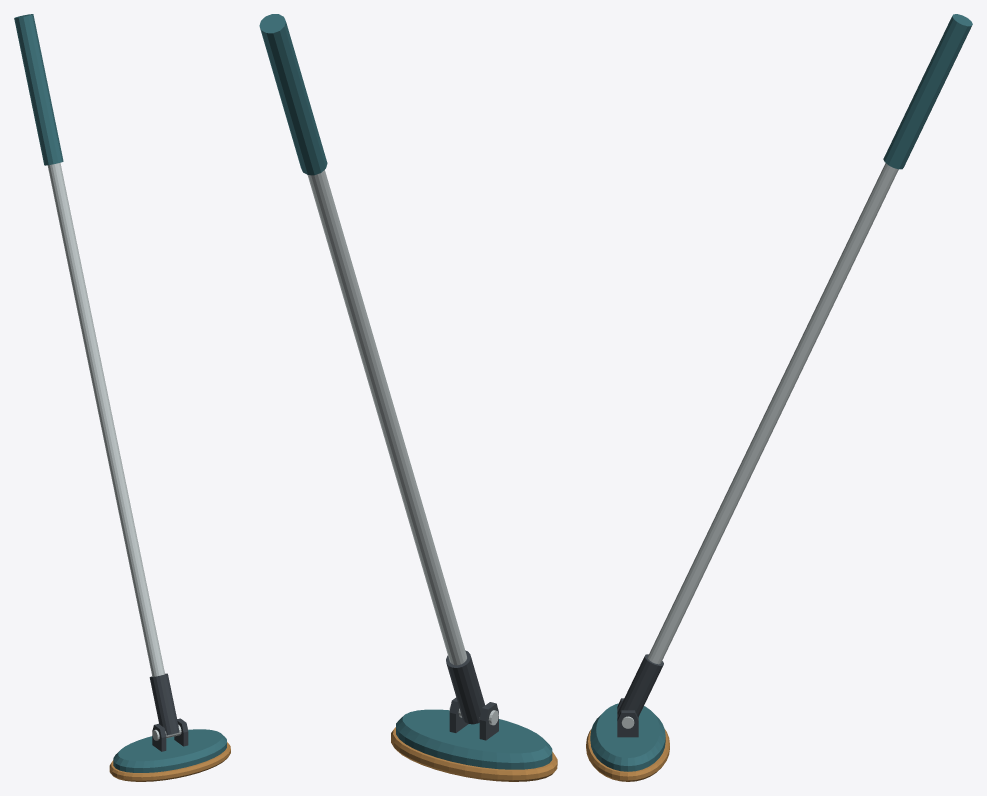
The picture shows the model from 3 angles, left to right: view 1: azimuth 30°, elevation 25°; view 2: azimuth 150°, elevation 25°; view 3: azimuth 270°, elevation 25°; orthographic projection. The views are drawn at different scales.
Parts seen in each view (by area): view 1: WholeLongInclinedShaft, WholeBeveledUpperHousing, WholeUpperGrip, WholeLowOvalPad, WholeShortInclinedNeck; view 2: WholeLongInclinedShaft, WholeBeveledUpperHousing, WholeUpperGrip, WholeLowOvalPad, WholeShortInclinedNeck, WholeForkCheek_-1; view 3: WholeLongInclinedShaft, WholeUpperGrip, WholeBeveledUpperHousing, WholeShortInclinedNeck, WholeLowOvalPad.
Part boxes in pixels (x1,y1,x2,y2): WholeLongInclinedShaft: (47,162,164,676); WholeBeveledUpperHousing: (113,729,226,772); WholeUpperGrip: (14,14,63,165); WholeLowOvalPad: (109,742,230,781); WholeShortInclinedNeck: (149,673,179,735); WholeLongInclinedShaft: (307,170,466,665); WholeBeveledUpperHousing: (396,709,552,769); WholeUpperGrip: (259,14,327,175); WholeLowOvalPad: (391,727,557,781); WholeShortInclinedNeck: (446,650,485,724); WholeForkCheek_-1: (479,702,498,740); WholeLongInclinedShaft: (647,163,898,664); WholeUpperGrip: (883,14,972,169); WholeBeveledUpperHousing: (590,703,665,771); WholeShortInclinedNeck: (617,654,663,717); WholeLowOvalPad: (586,729,669,781).
Bounding box in the file's own units: 0.244 × 1.29 × 0.6175.
